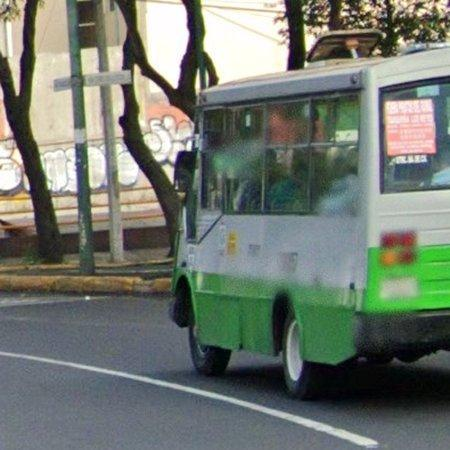buses: (174, 50, 450, 395)
